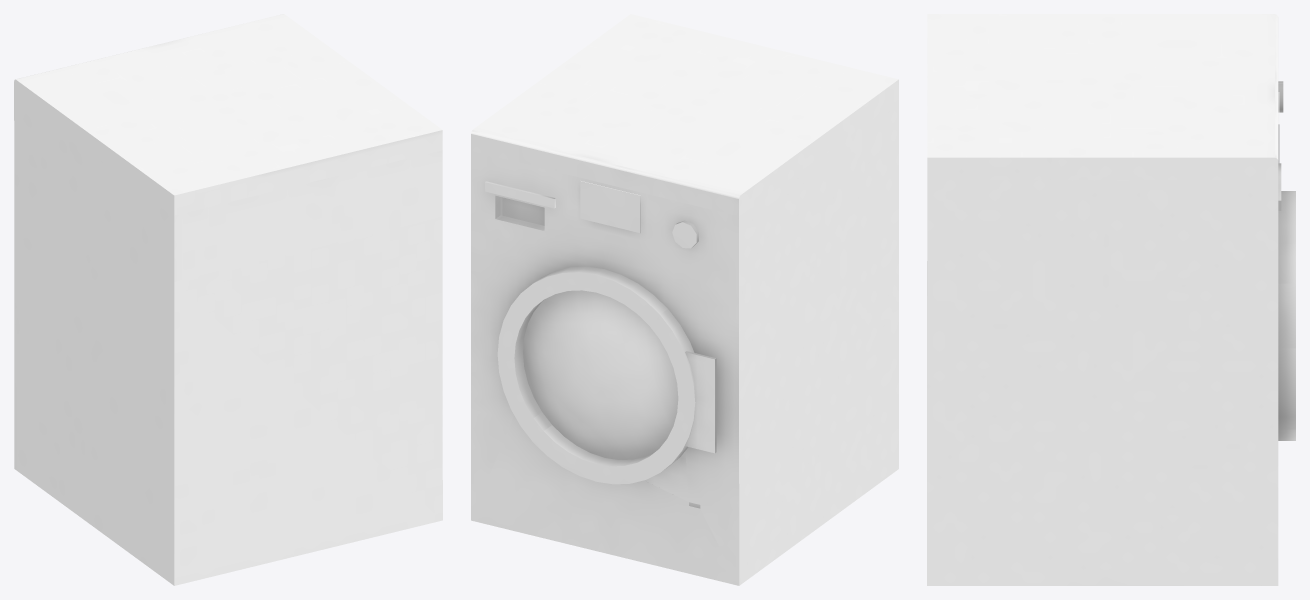
Rendered from WashingMachine.glb.
The picture shows the model from 3 angles, left to right: view 1: azimuth 30°, elevation 25°; view 2: azimuth 150°, elevation 25°; view 3: azimuth 270°, elevation 25°; orthographic projection. The views are drawn at different scales.
Parts seen in each view (by area): view 1: WashingMachine; view 2: WashingMachine; view 3: WashingMachine.
Boxes of the visible parts, x1,y1,x2,y2 form: WashingMachine: (14,14,442,585); WashingMachine: (471,14,898,585); WashingMachine: (927,14,1295,585).
Bounding box in the file's own units: 0.5969 × 0.8292 × 0.6473.
1 material, 1 textured.
